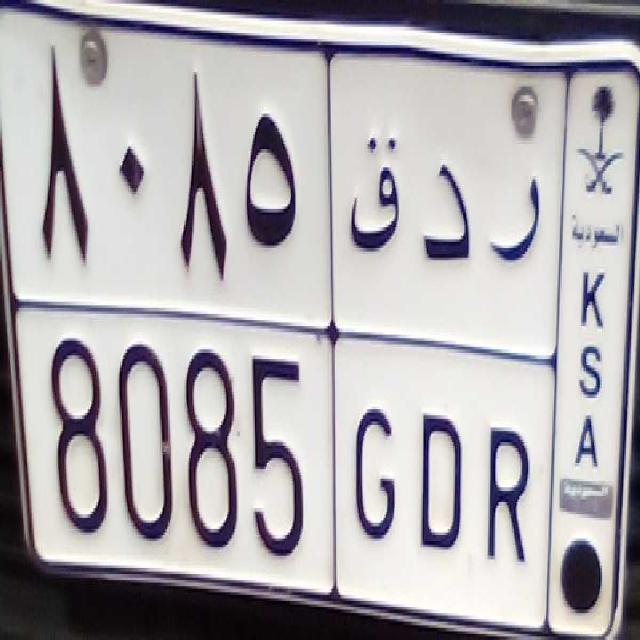license_plate: (30, 310, 545, 608)
